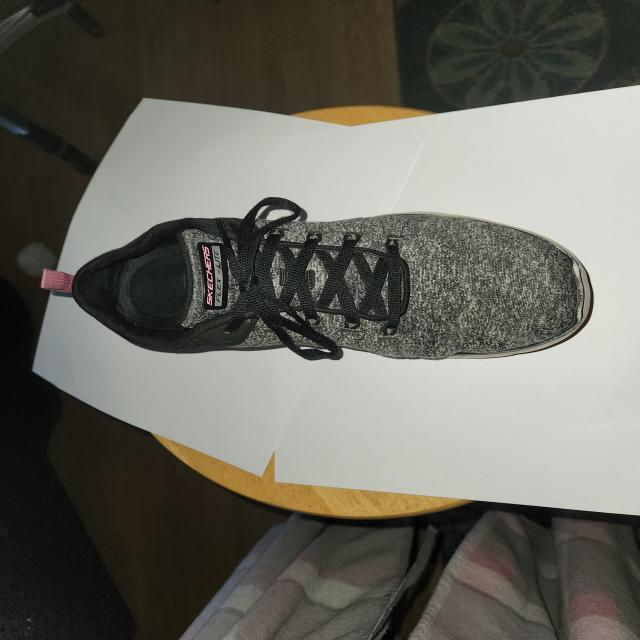shoes: (68, 211, 596, 362)
